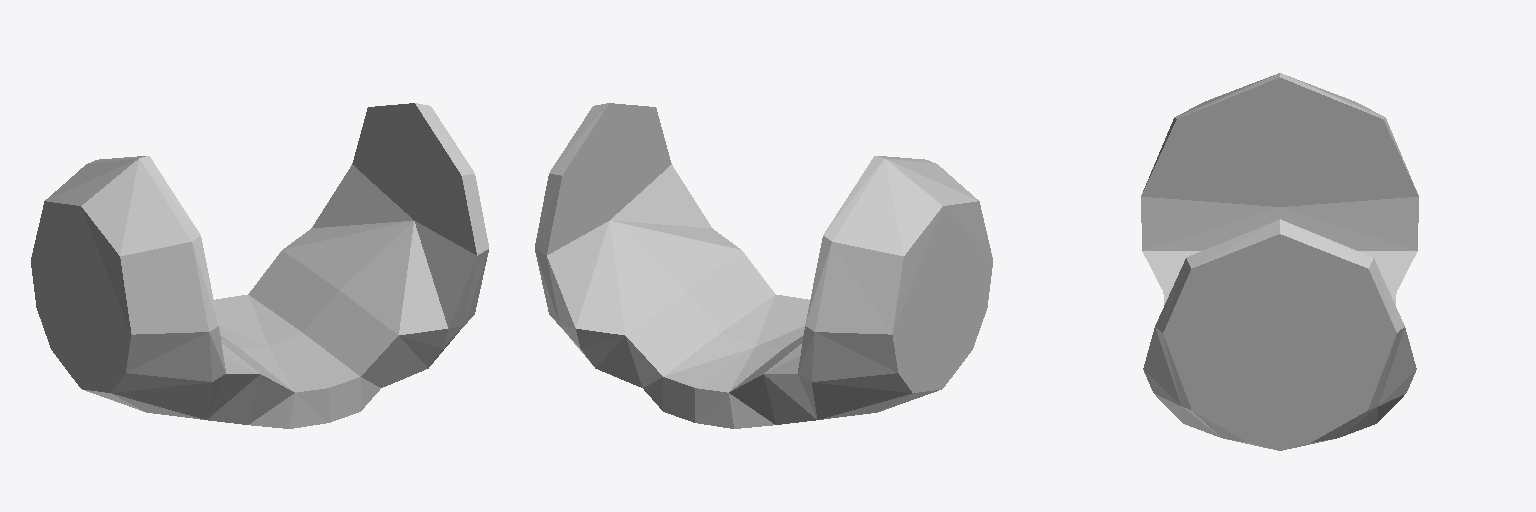
Rendered from aj1_left.obj.
3 views of the same model, side by side, from view 1: azimuth 30°, elevation 25°; view 2: azimuth 150°, elevation 25°; view 3: azimuth 270°, elevation 25° (orthographic).
Visible parts, largest first — view 1: Cylinder; view 2: Cylinder; view 3: Cylinder.
Boxes of the visible parts, x1=… form: Cylinder: x1=31, y1=103, x2=488, y2=428; Cylinder: x1=535, y1=103, x2=992, y2=428; Cylinder: x1=1141, y1=73, x2=1418, y2=450.
Size of the model in its own units: 0.2036 by 0.1407 by 0.1402.